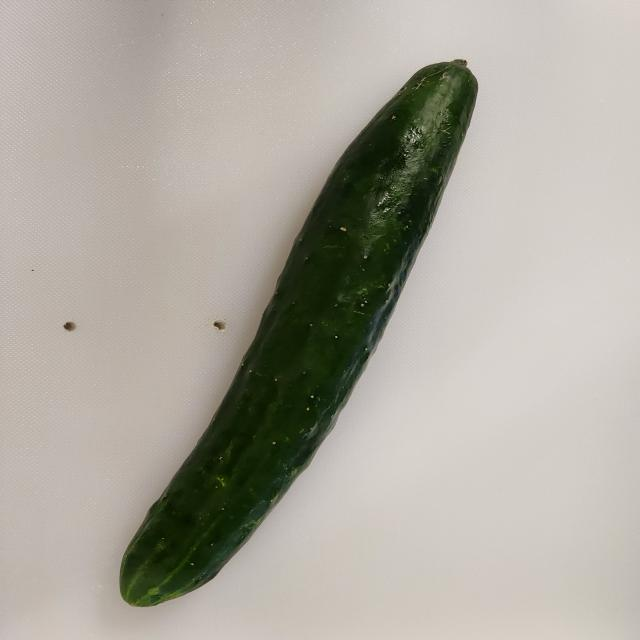cucumber: (118, 58, 478, 607)
